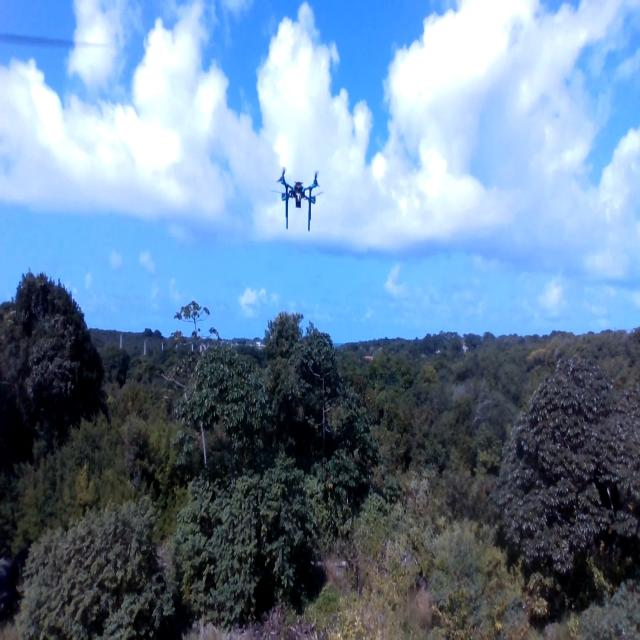-uav-: (264, 154, 334, 243)
